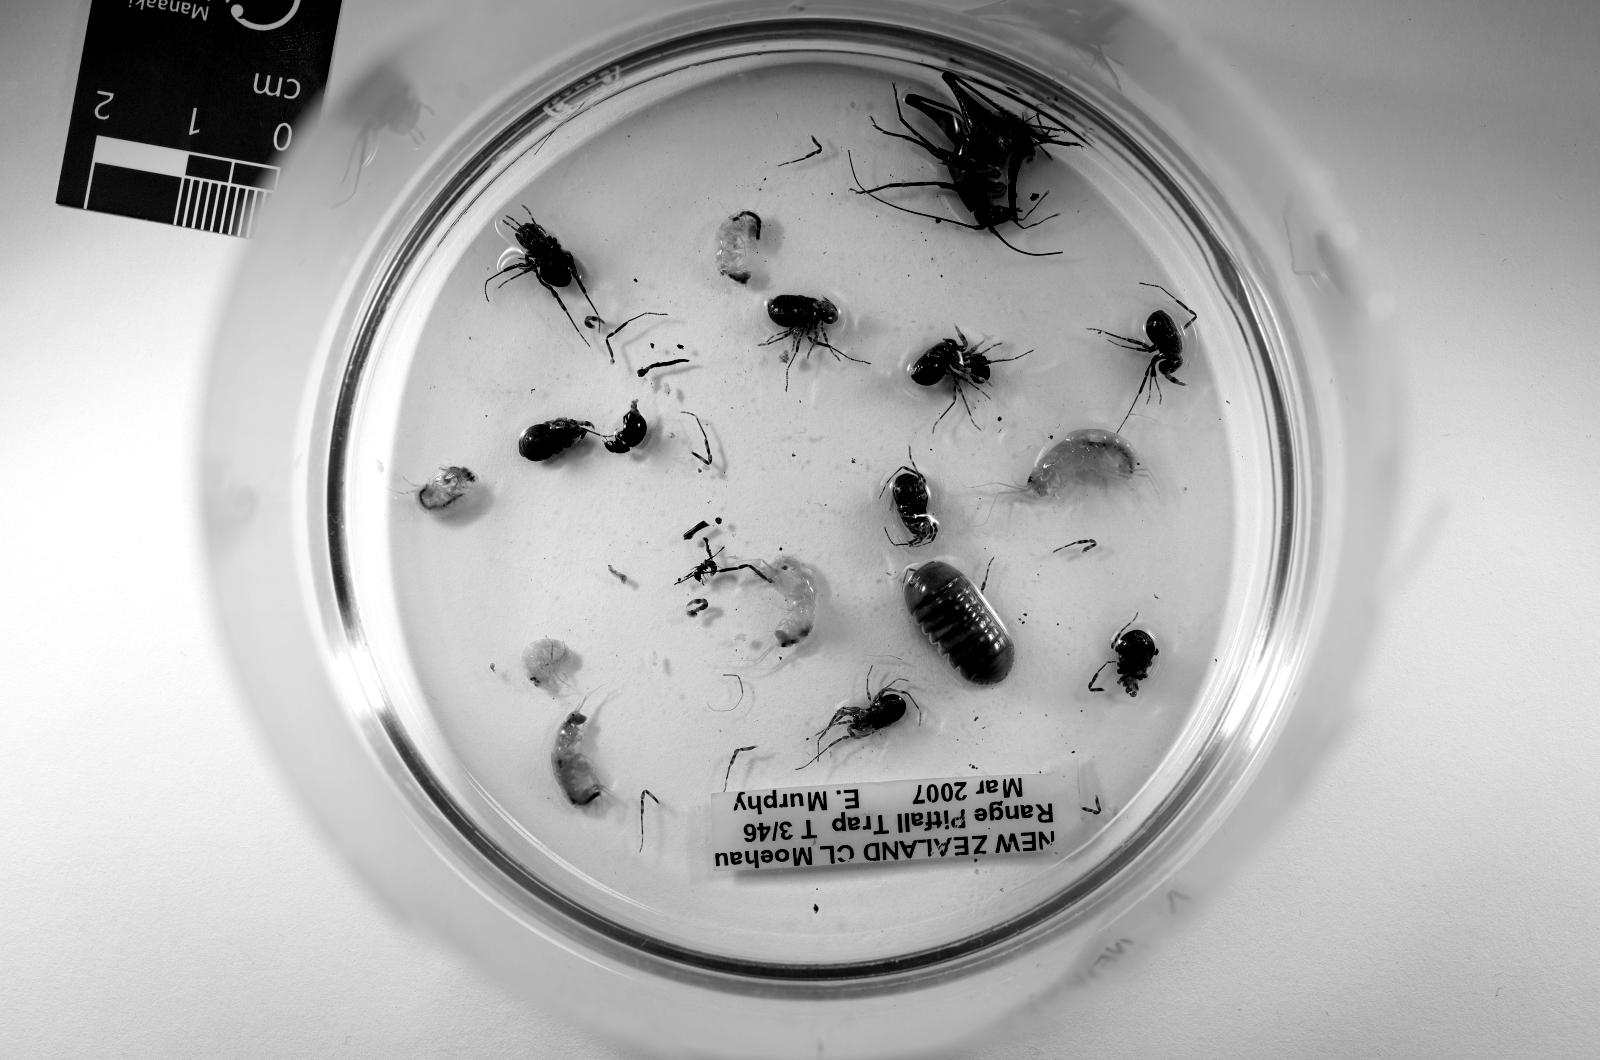amphipoda: (1000, 429, 1156, 500), (753, 556, 819, 649), (553, 708, 609, 807), (716, 211, 762, 283), (416, 466, 478, 516), (522, 640, 572, 686)
coleoptera: (519, 419, 594, 460), (603, 401, 647, 453)
formicidae: (691, 559, 719, 584)
isopoda: (903, 562, 1016, 686)
opiliones: (1103, 283, 1197, 419), (497, 211, 594, 332), (812, 674, 909, 761), (909, 329, 1000, 407), (762, 295, 847, 370), (881, 463, 938, 547), (519, 419, 594, 460), (1112, 630, 1156, 696)
orthoptera: (856, 71, 1078, 245)
